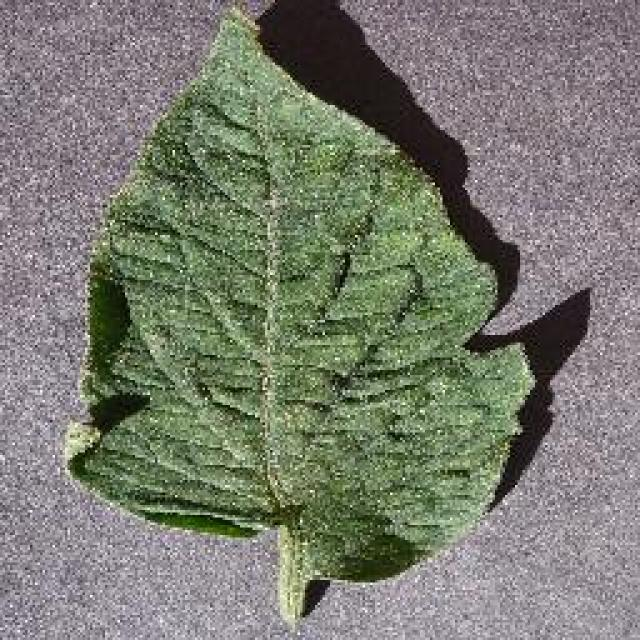Tomato___healthy: (63, 7, 538, 623)
